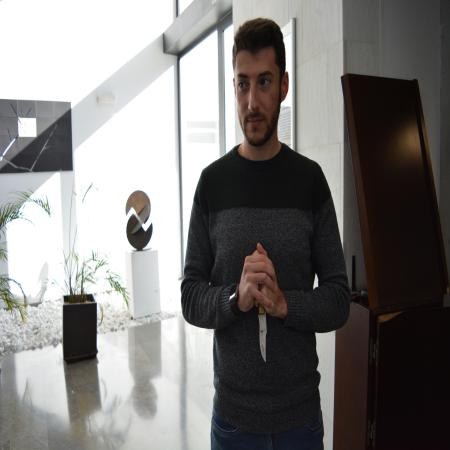long weapon: (256, 298, 270, 366)
